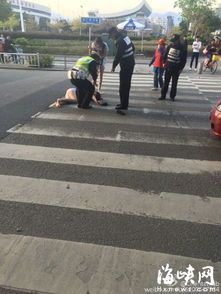fall: (48, 82, 111, 107)
